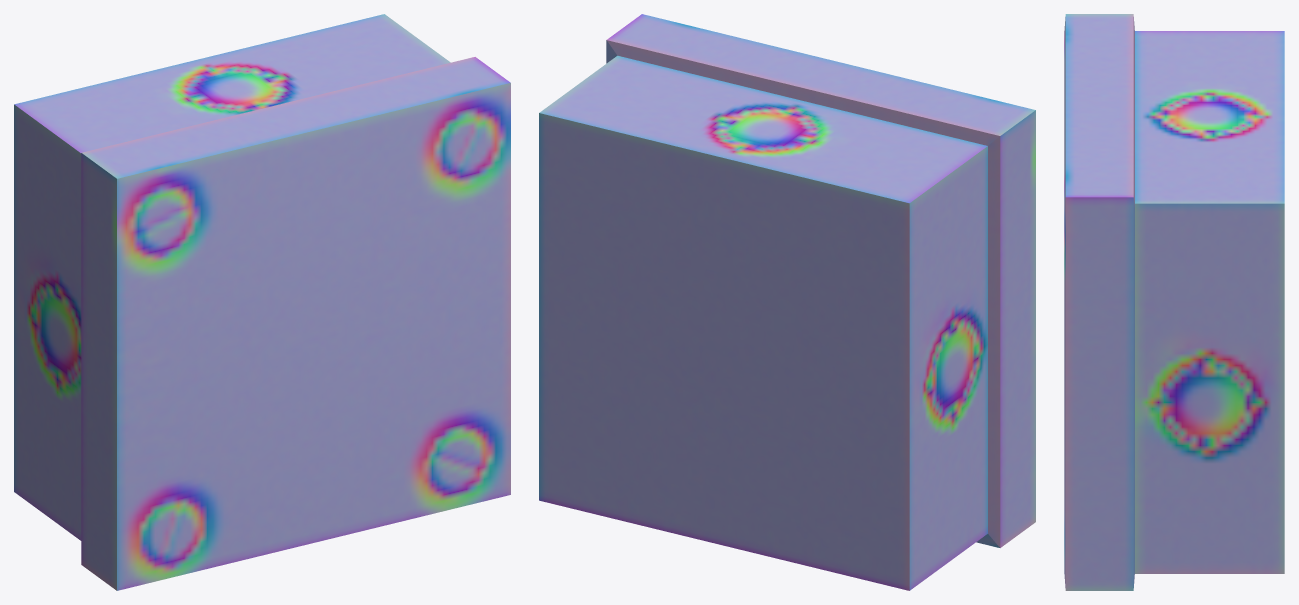
File: LitElectricBoxA1.fbx
The picture shows the model from 3 angles, left to right: view 1: azimuth 30°, elevation 25°; view 2: azimuth 150°, elevation 25°; view 3: azimuth 270°, elevation 25°; orthographic projection. The views are drawn at different scales.
Visible parts, largest first — view 1: LitElectricBoxA1; view 2: LitElectricBoxA1; view 3: LitElectricBoxA1.
Boxes of the visible parts, x1,y1,x2,y2 form: LitElectricBoxA1: [14, 14, 510, 590]; LitElectricBoxA1: [539, 14, 1035, 590]; LitElectricBoxA1: [1064, 14, 1284, 590].
Bounding box in the file's own units: 12.76 × 12.76 × 6.47.
1 material, 1 textured.
